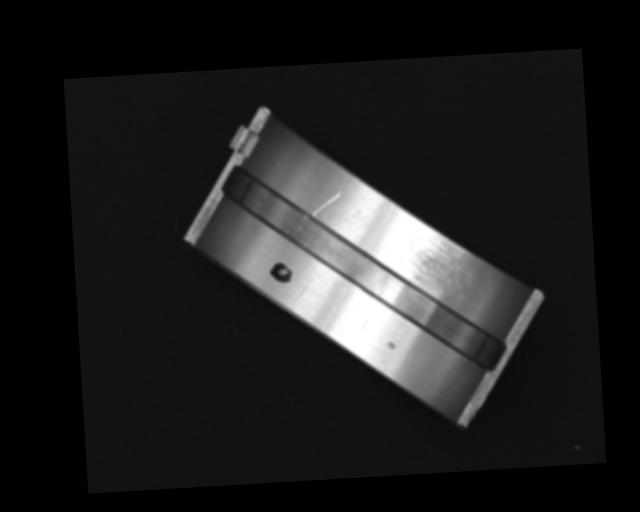blot: (268, 259, 294, 285)
bruise: (386, 339, 396, 349)
gap: (219, 150, 508, 382)
nick: (311, 191, 344, 217), (292, 275, 316, 303)
scratch: (399, 221, 476, 294)
